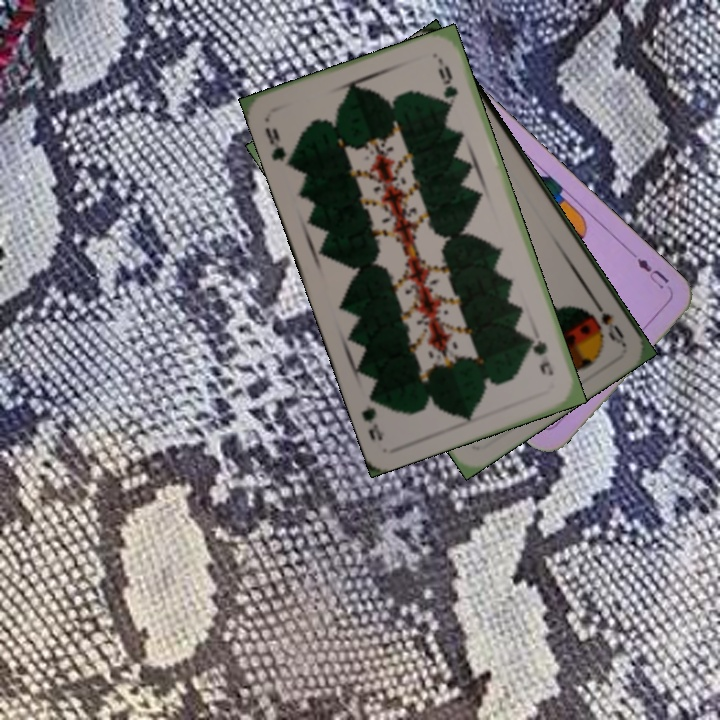EU: (632, 254, 672, 292)
G9: (261, 123, 296, 170), (527, 333, 556, 378)
SO: (587, 293, 627, 347)
